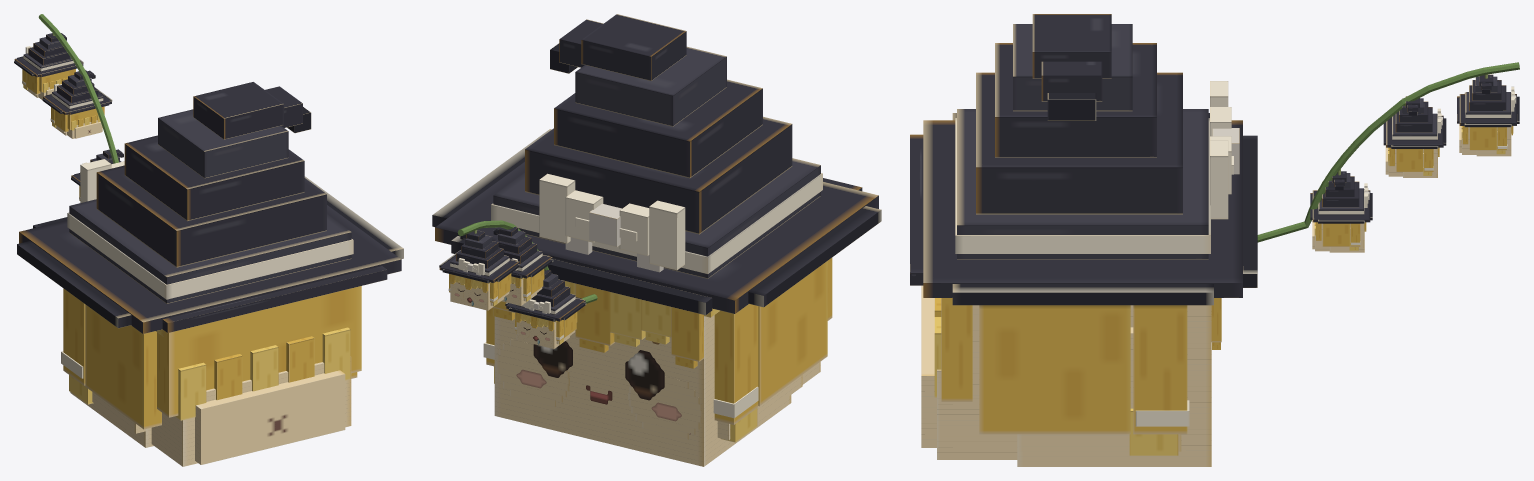
Rendered from birth_family_marisa.obj.
The picture shows the model from 3 angles, left to right: view 1: azimuth 30°, elevation 25°; view 2: azimuth 150°, elevation 25°; view 3: azimuth 270°, elevation 25°; orthographic projection. The views are drawn at different scales.
Parts seen in each view (by area): view 1: birth_family_marisa; view 2: birth_family_marisa; view 3: birth_family_marisa.
Boxes of the visible parts, x1,y1,x2,y2 form: birth_family_marisa: [14, 14, 403, 466]; birth_family_marisa: [432, 14, 881, 466]; birth_family_marisa: [910, 14, 1519, 466].
Bounding box in the file's own units: 19 × 19.34 × 27.25.
Materials: 1 (1 with a texture image).
